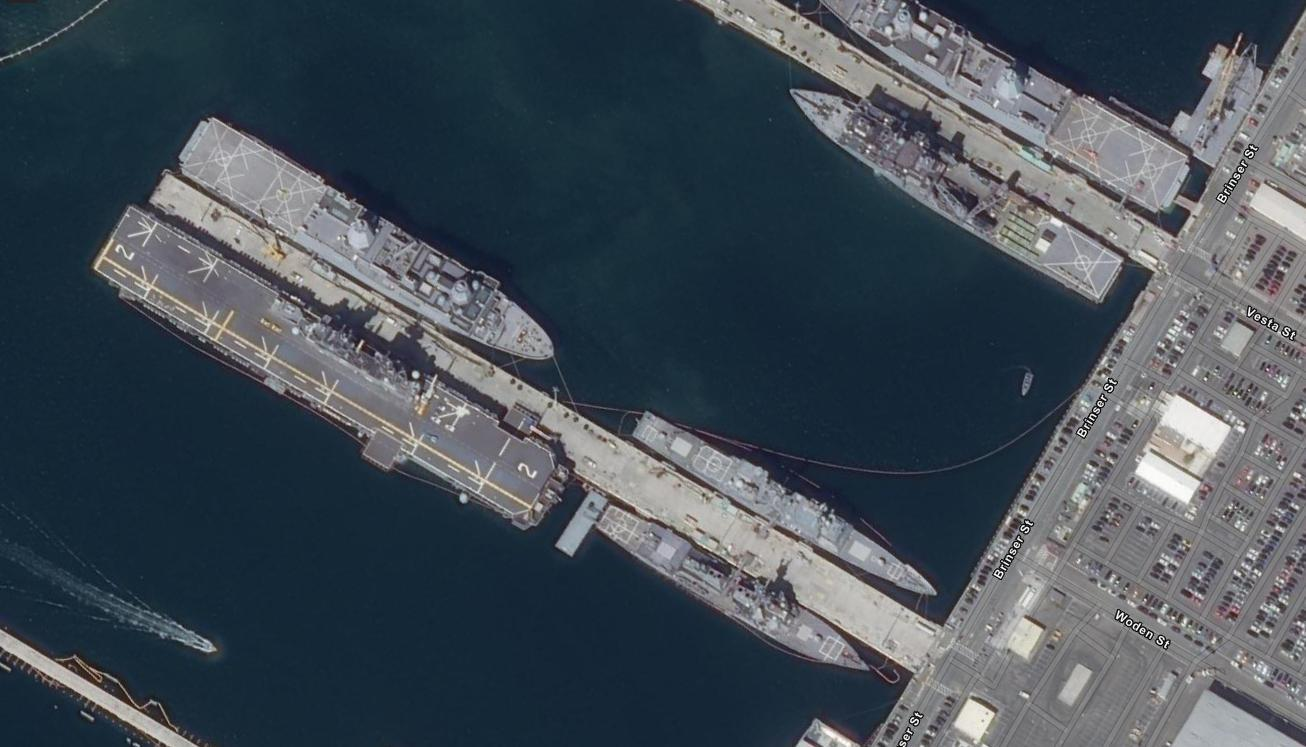amphiby: (169, 109, 563, 364), (788, 78, 1128, 306)
destroyer: (630, 401, 945, 602)
fregate: (591, 497, 876, 678)
pha: (82, 195, 577, 544)
